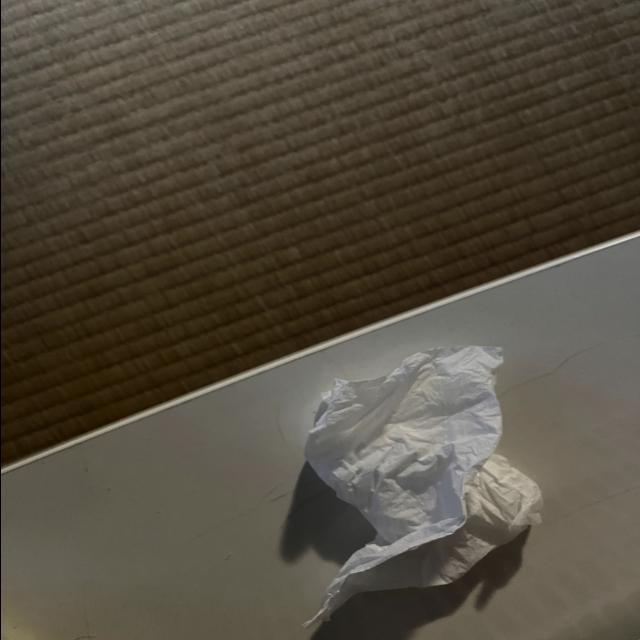Paper: (313, 339, 567, 604)
